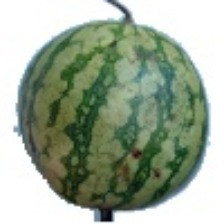watermelon: (23, 31, 189, 216)
